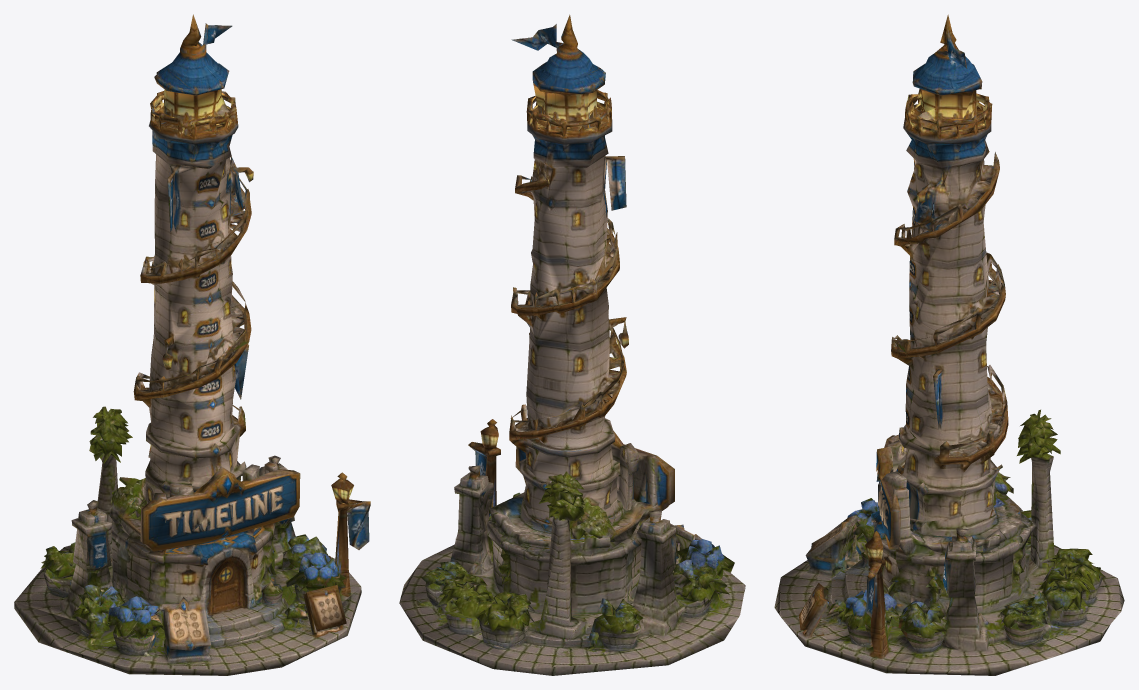
File: life-timeline.glb
3 renders of one model, left to right at view 1: azimuth 30°, elevation 25°; view 2: azimuth 150°, elevation 25°; view 3: azimuth 270°, elevation 25°, orthographic.
Parts seen in each view (by area): view 1: Mesh1.0; view 2: Mesh1.0; view 3: Mesh1.0.
Boxes of the visible parts, x1,y1,x2,y2 form: Mesh1.0: (14,14,370,675); Mesh1.0: (399,14,745,675); Mesh1.0: (774,14,1124,675).
Bounding box in the file's own units: 1.02 × 1.9 × 1.02.
1 material, 1 textured.
